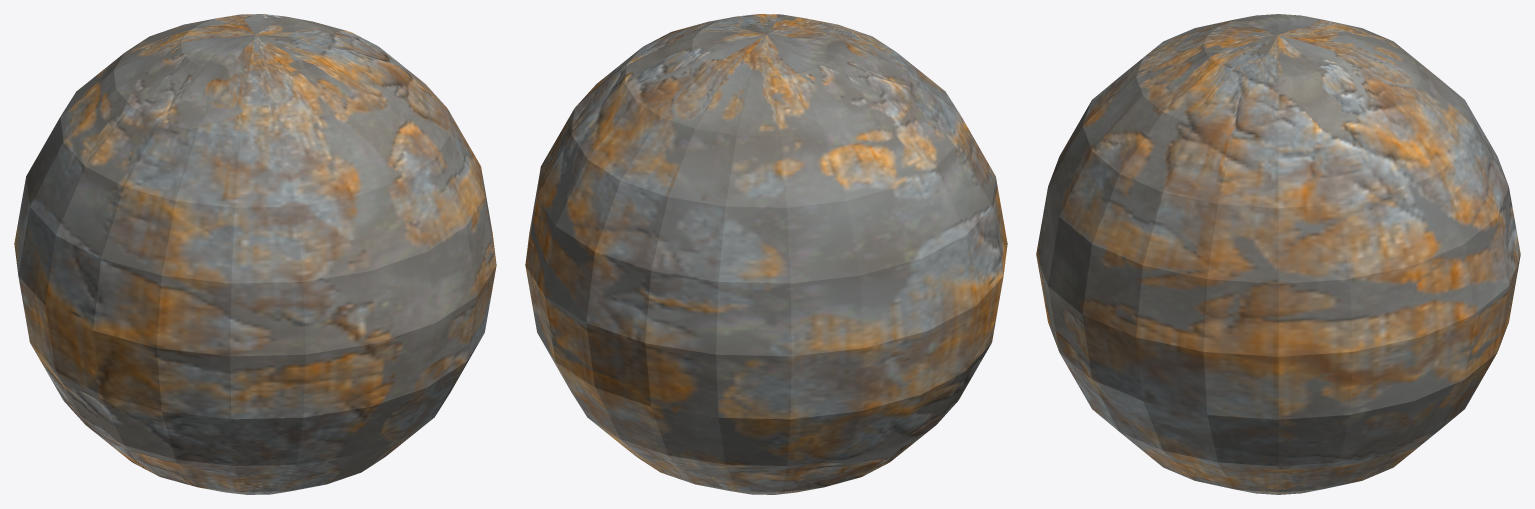
The model's file is bullet.obj.
The picture shows the model from 3 angles, left to right: view 1: azimuth 30°, elevation 25°; view 2: azimuth 150°, elevation 25°; view 3: azimuth 270°, elevation 25°; orthographic projection.
Parts seen in each view (by area): view 1: Bala; view 2: Bala; view 3: Bala.
Boxes of the visible parts, x1,y1,x2,y2 form: Bala: (14,14,496,494); Bala: (525,14,1007,494); Bala: (1036,14,1520,494).
Size of the model in its own units: 4.9 by 4.9 by 4.9.
